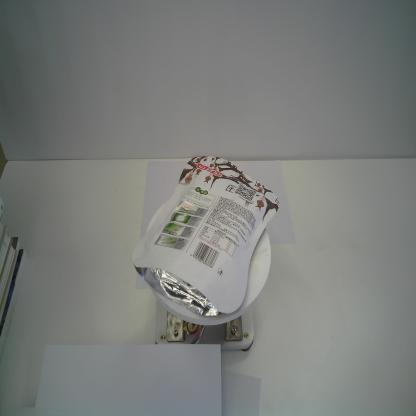Dried Fruit: (131, 155, 280, 316)
